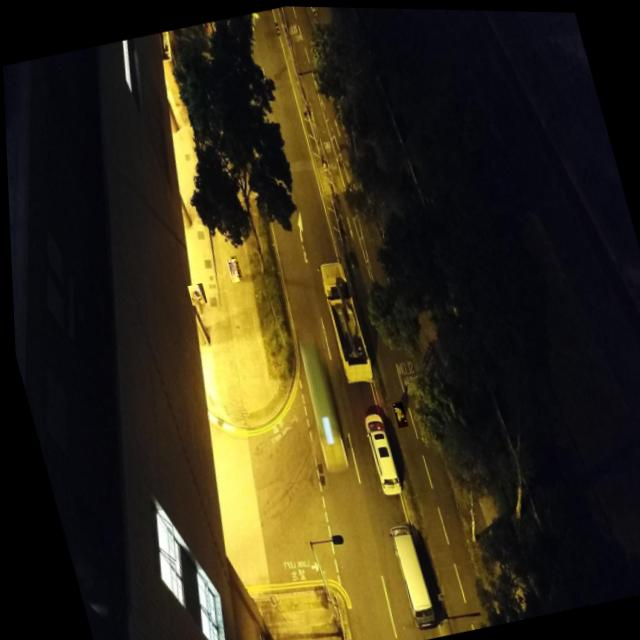Person: (184, 282, 204, 305), (388, 399, 404, 426), (223, 257, 237, 281), (228, 254, 240, 277)
